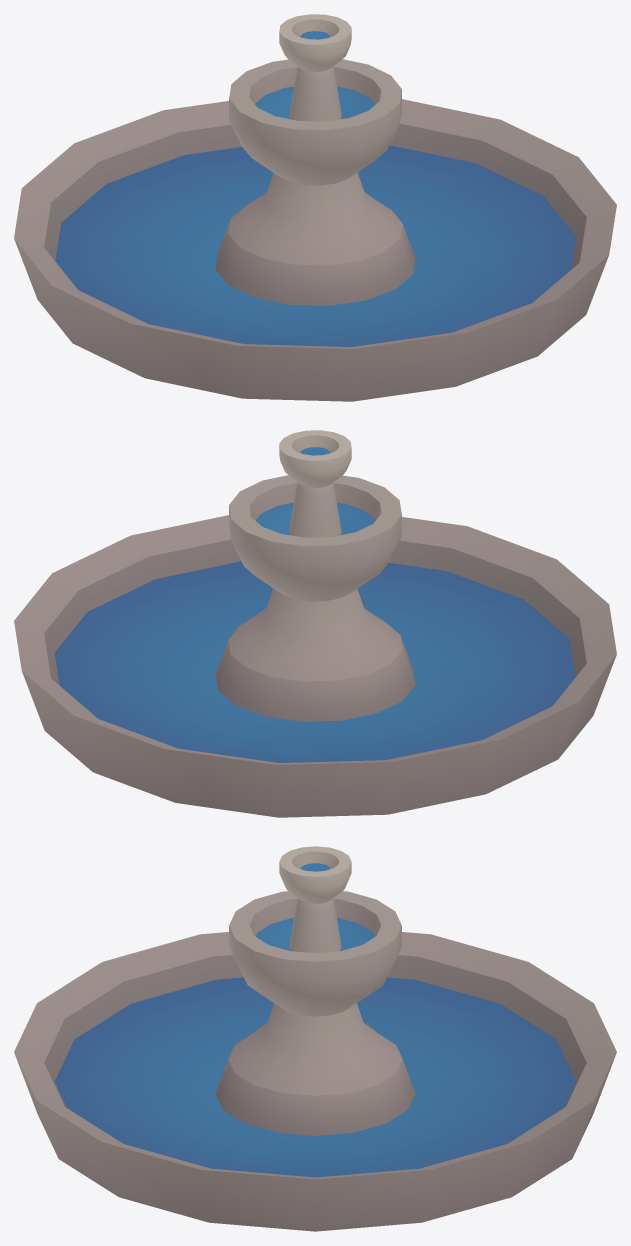
The model's file is village_town_fountain.glb.
3 views of the same model, one above another, from view 1: azimuth 30°, elevation 25°; view 2: azimuth 150°, elevation 25°; view 3: azimuth 270°, elevation 25° (orthographic).
Parts seen in each view (by area): view 1: Fountain.001_Material.005_0; view 2: Fountain.001_Material.005_0; view 3: Fountain.001_Material.005_0.
Boxes of the visible parts, bbox=[...] form: Fountain.001_Material.005_0: bbox=[14, 14, 616, 401]; Fountain.001_Material.005_0: bbox=[14, 430, 616, 817]; Fountain.001_Material.005_0: bbox=[14, 846, 616, 1231].
Size of the model in its own units: 3.44 by 1.59 by 3.44.
Materials: 1 (1 with a texture image).
